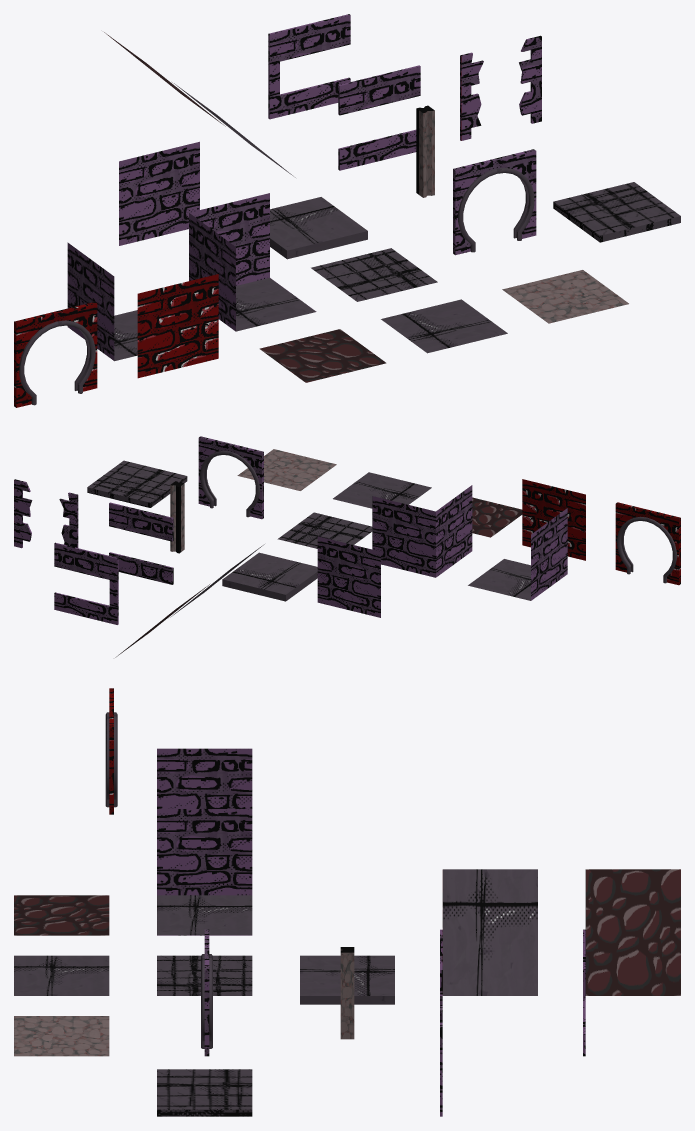
The model's file is Modular_Kit.glb.
3 views of the same model, one above another, from view 1: azimuth 30°, elevation 25°; view 2: azimuth 150°, elevation 25°; view 3: azimuth 270°, elevation 25° (orthographic). The views are drawn at different scales.
Parts seen in each view (by area): view 1: Corner_wall-col, wall-col.001, wall-col, window_Corner-col, roof-col, window-col, Side_wall-col, floor_Outside-col, door-col, door_red-col, floor_2-col, Ceiling-col (+4 smaller); view 2: Corner_wall-col, wall-col, Side_wall-col, wall-col.001, window_Corner-col, floor_Outside-col, roof-col, window-col, door-col, door_red-col, gravel_Floor-col, floor-col (+4 smaller); view 3: slope-col, slope_red-col, Corner_wall-col, Side_wall-col, roof-col, floor_Outside-col, floor_2-col, floor-col, gravel_Floor-col, Ceiling-col, pillar-col, door_red-col (+1 smaller).
Boxes of the visible parts, x1=… form: Corner_wall-col: x1=189, y1=193, x2=316, y2=331; wall-col.001: x1=137, y1=274, x2=218, y2=378; wall-col: x1=119, y1=141, x2=199, y2=245; window_Corner-col: x1=268, y1=14, x2=350, y2=119; roof-col: x1=553, y1=182, x2=680, y2=242; window-col: x1=338, y1=65, x2=420, y2=170; Side_wall-col: x1=67, y1=242, x2=137, y2=361; floor_Outside-col: x1=270, y1=197, x2=367, y2=259; door-col: x1=453, y1=149, x2=536, y2=255; door_red-col: x1=14, y1=302, x2=97, y2=407; floor_2-col: x1=259, y1=329, x2=386, y2=382; Ceiling-col: x1=311, y1=248, x2=437, y2=301; Corner_wall-col: x1=372, y1=485, x2=472, y2=577; wall-col: x1=317, y1=536, x2=380, y2=617; Side_wall-col: x1=468, y1=508, x2=567, y2=600; wall-col.001: x1=522, y1=479, x2=585, y2=560; window_Corner-col: x1=54, y1=542, x2=118, y2=624; floor_Outside-col: x1=222, y1=552, x2=317, y2=601; roof-col: x1=87, y1=460, x2=187, y2=507; window-col: x1=109, y1=502, x2=173, y2=584; door-col: x1=198, y1=436, x2=263, y2=519; door_red-col: x1=615, y1=502, x2=680, y2=585; gravel_Floor-col: x1=237, y1=449, x2=336, y2=490; floor-col: x1=333, y1=472, x2=431, y2=508; slope-col: x1=442, y1=869, x2=537, y2=995; slope_red-col: x1=585, y1=869, x2=680, y2=995; Corner_wall-col: x1=157, y1=809, x2=252, y2=935; Side_wall-col: x1=157, y1=748, x2=252, y2=808; roof-col: x1=157, y1=1069, x2=252, y2=1116; floor_Outside-col: x1=300, y1=955, x2=394, y2=1004; floor_2-col: x1=14, y1=895, x2=109, y2=935; floor-col: x1=14, y1=955, x2=109, y2=995; gravel_Floor-col: x1=14, y1=1016, x2=109, y2=1056; Ceiling-col: x1=157, y1=955, x2=252, y2=995; pillar-col: x1=340, y1=947, x2=354, y2=1039; door_red-col: x1=105, y1=688, x2=117, y2=814.
Bounding box in the file's own units: 17 × 2.2 × 14.
Materials: 18 (18 with a texture image).
